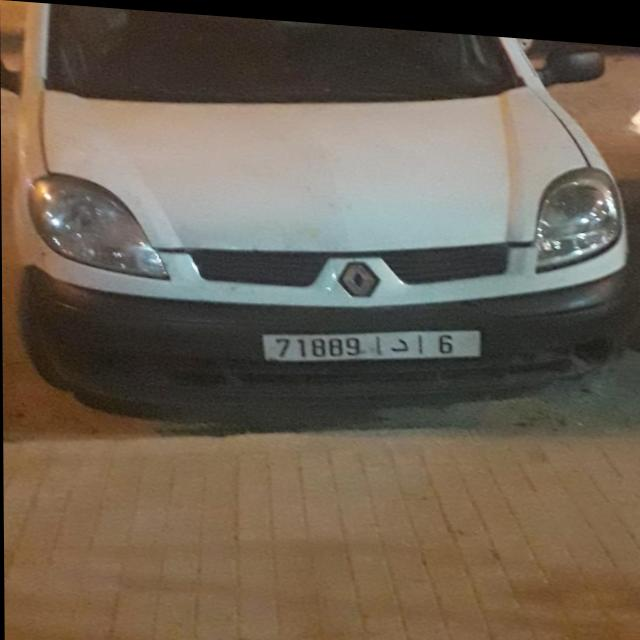License-Plate: (261, 322, 481, 357)
